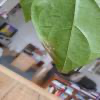Bell_pepper leaf spot: (29, 1, 99, 74)
